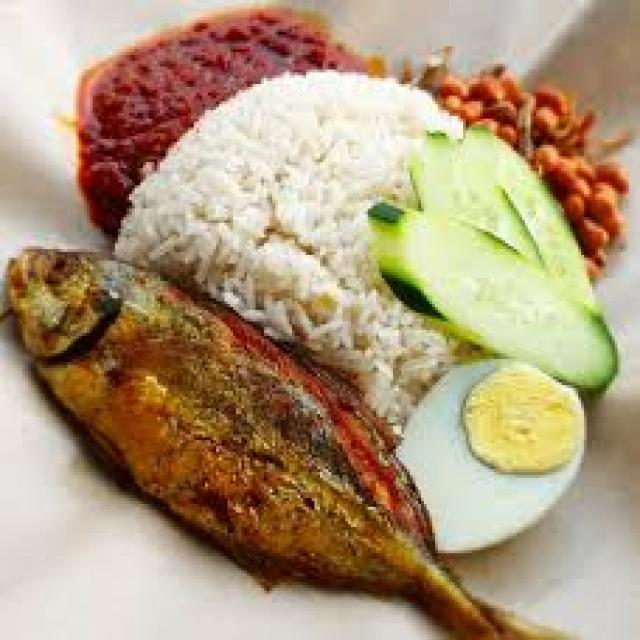Egg: (396, 359, 584, 550)
Fish: (8, 249, 556, 637)
Rice: (121, 70, 460, 431)
